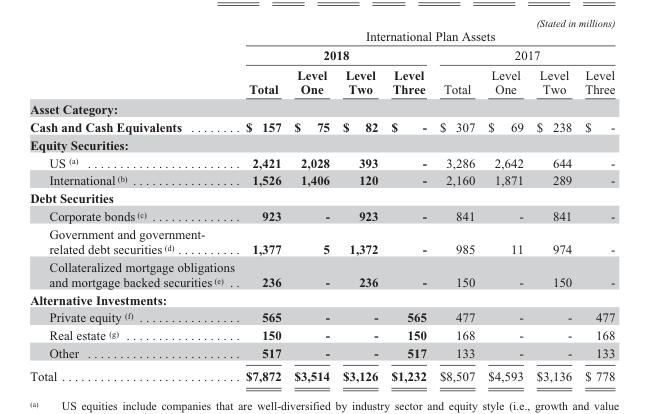table: (29, 28, 614, 382)
table column: (29, 28, 239, 382), (383, 28, 432, 382), (480, 28, 529, 382), (239, 28, 287, 382), (287, 28, 335, 382), (335, 28, 383, 382), (432, 28, 480, 382), (529, 28, 577, 382), (577, 28, 614, 382)
table column header: (29, 28, 614, 98)
table projected row header: (29, 98, 614, 117), (29, 135, 614, 153), (29, 290, 614, 308), (29, 189, 614, 206)
table row: (29, 64, 614, 98), (29, 224, 614, 257), (29, 257, 614, 290), (29, 343, 614, 364), (29, 45, 614, 64), (29, 98, 614, 117), (29, 117, 614, 135), (29, 135, 614, 153), (29, 153, 614, 171), (29, 171, 614, 189), (29, 206, 614, 224), (29, 290, 614, 308), (29, 325, 614, 343), (29, 364, 614, 382), (29, 28, 614, 45), (29, 189, 614, 206), (29, 308, 614, 325)
table spanning cell: (239, 28, 614, 45), (239, 45, 432, 64), (432, 45, 614, 64)
